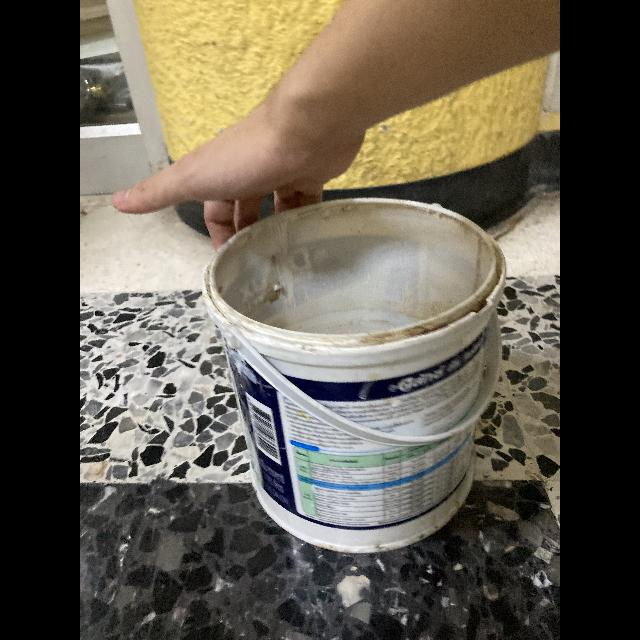paint_bucket: (202, 186, 512, 554)
